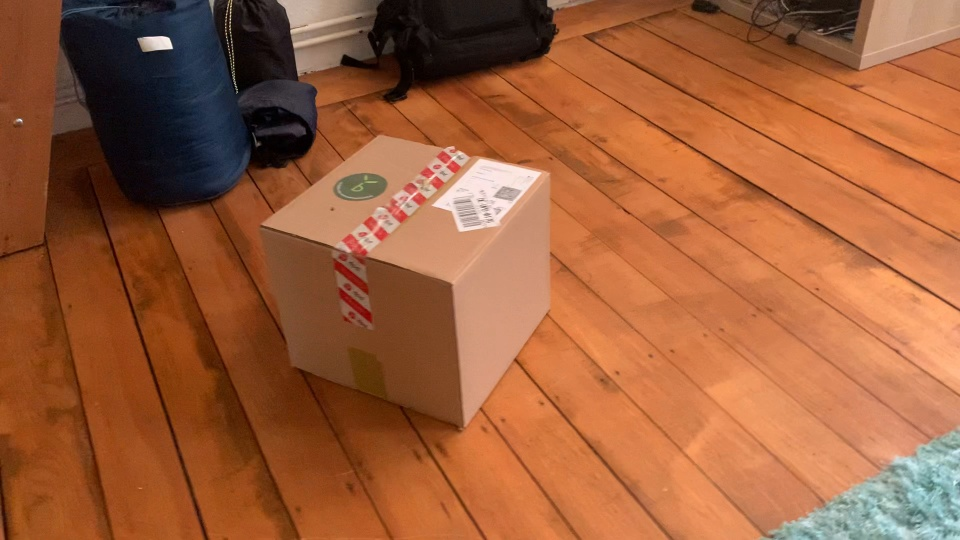good-parcel: (250, 128, 570, 433)
